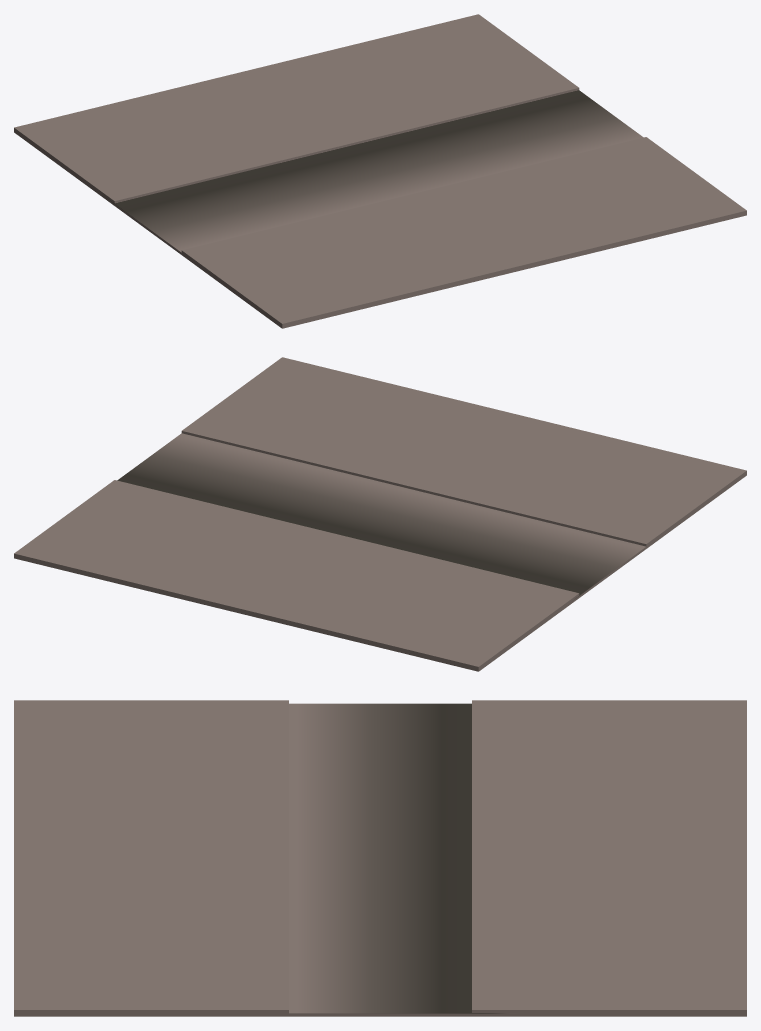
File: Env_Street_col.fbx
The picture shows the model from 3 angles, top to bottom: view 1: azimuth 30°, elevation 25°; view 2: azimuth 150°, elevation 25°; view 3: azimuth 270°, elevation 25°; orthographic projection. The views are drawn at different scales.
Parts seen in each view (by area): view 1: Env_Street_col; view 2: Env_Street_col; view 3: Env_Street_col.
Part boxes in pixels (box(x1,y1,x2,y2)): Env_Street_col: box(14, 14, 746, 328); Env_Street_col: box(14, 357, 746, 671); Env_Street_col: box(14, 700, 746, 1016).
Size of the model in its own units: 2000 by 20 by 2000.
